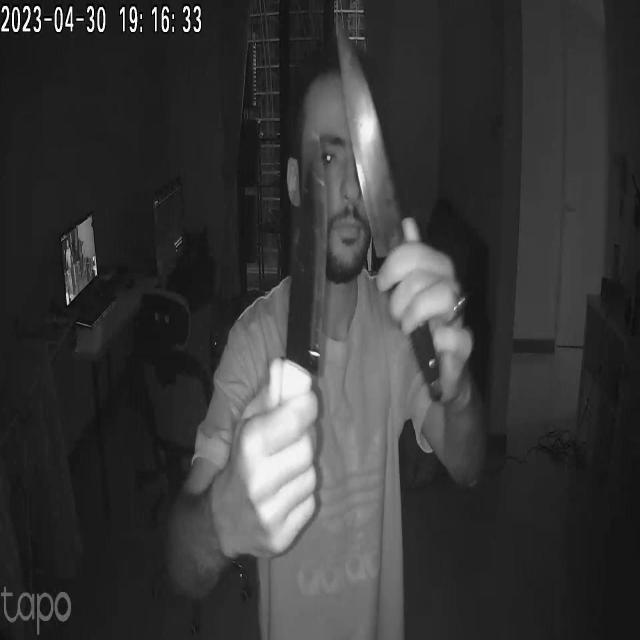Knife: (333, 23, 462, 411), (280, 135, 338, 389)
